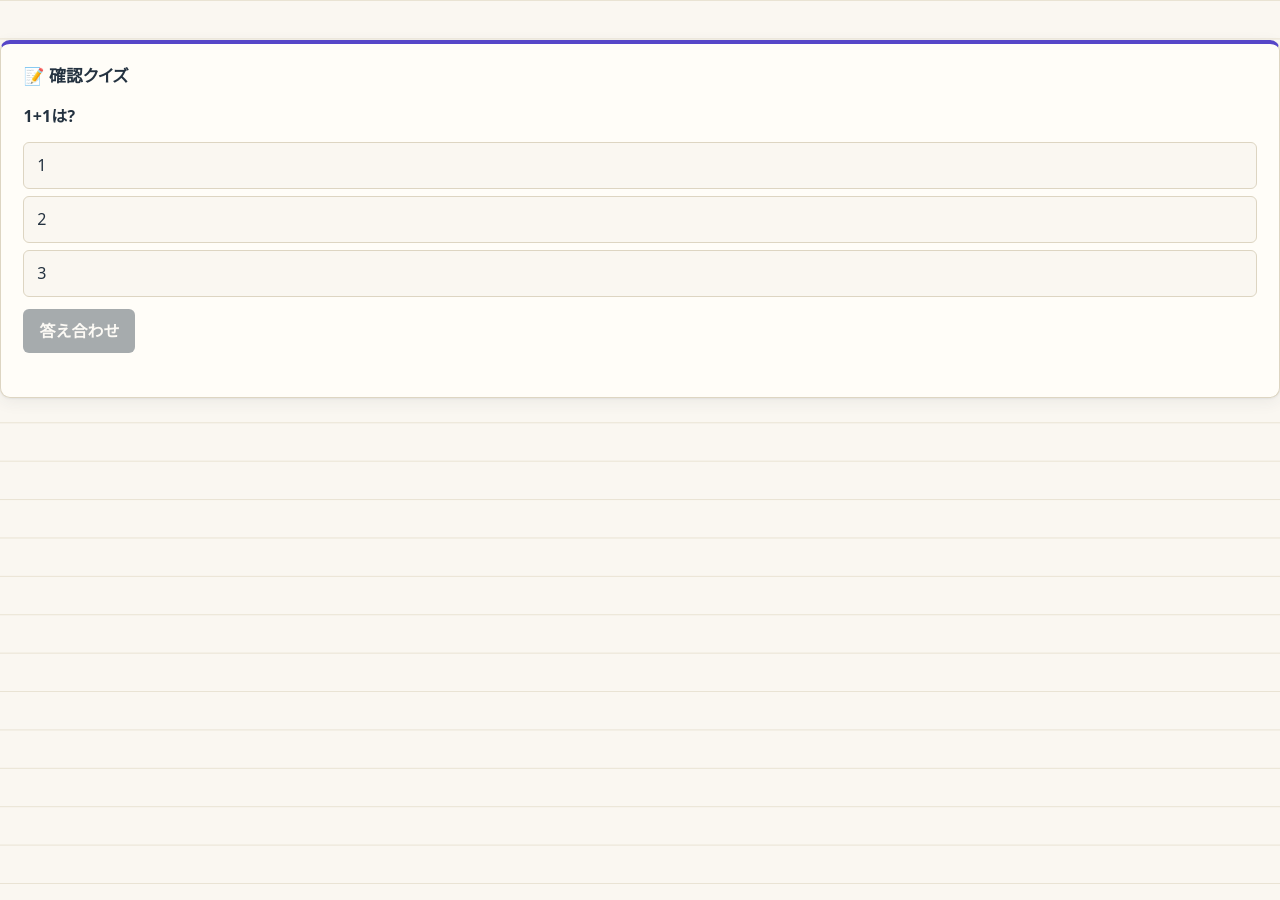
Test: QuizBlock › single choice: a wrong answer shows incorrect without the explanation
Click the button "1" at (42, 165), box [23,142,1257,189]
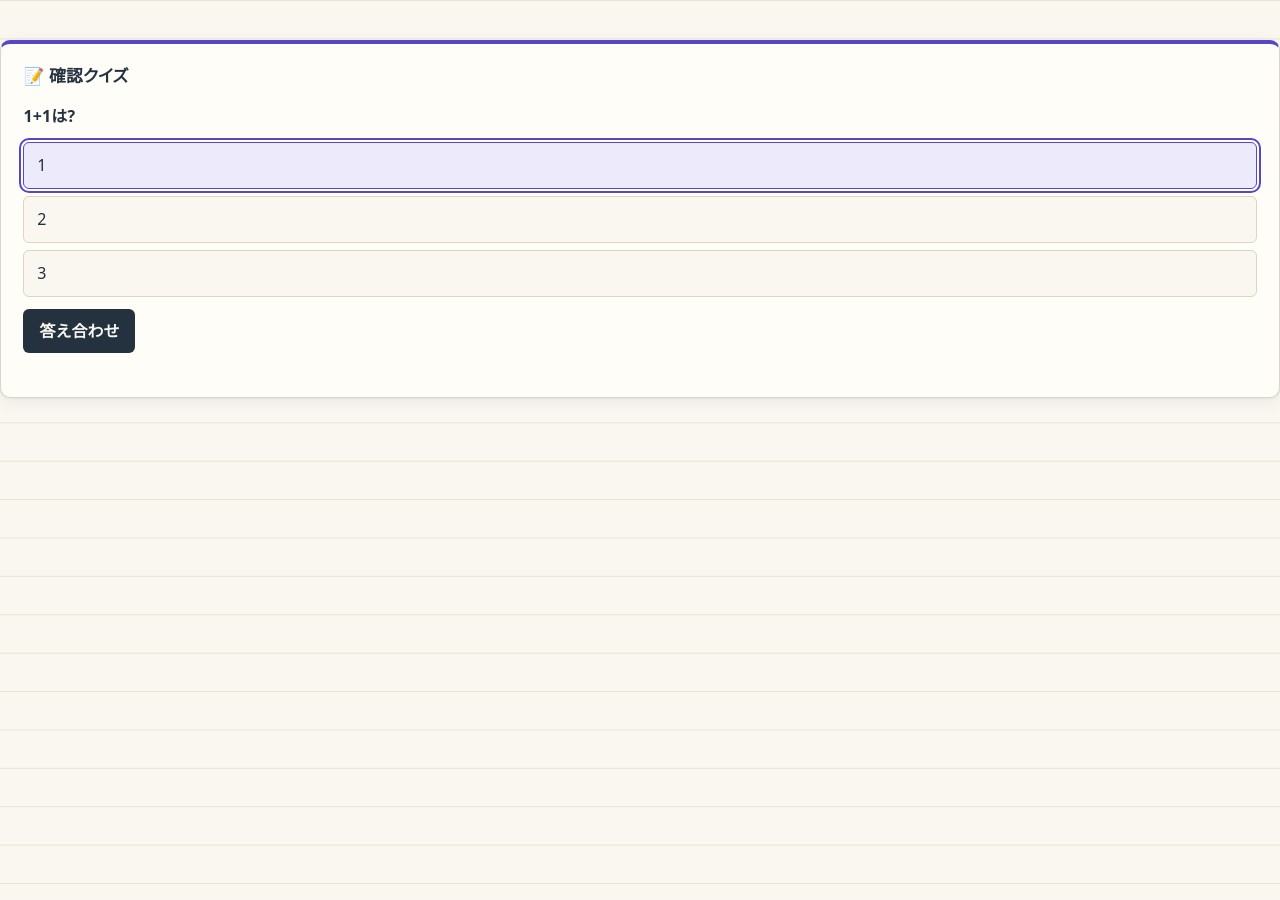
Click the button "答え合わせ" at (79, 331), box [23,309,135,353]
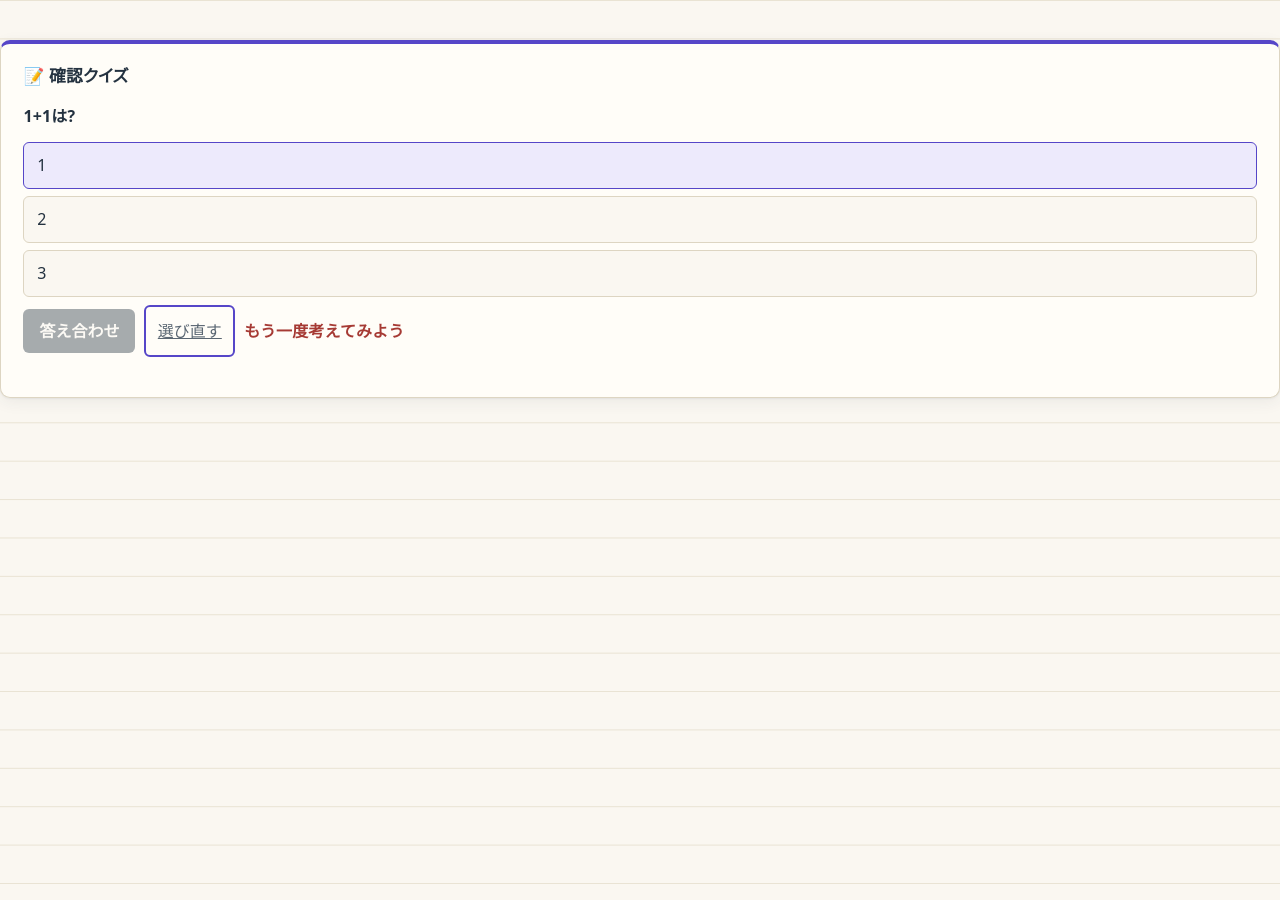
Expected: the text "もう一度考えてみよう" is shown, [244,318,404,345]
